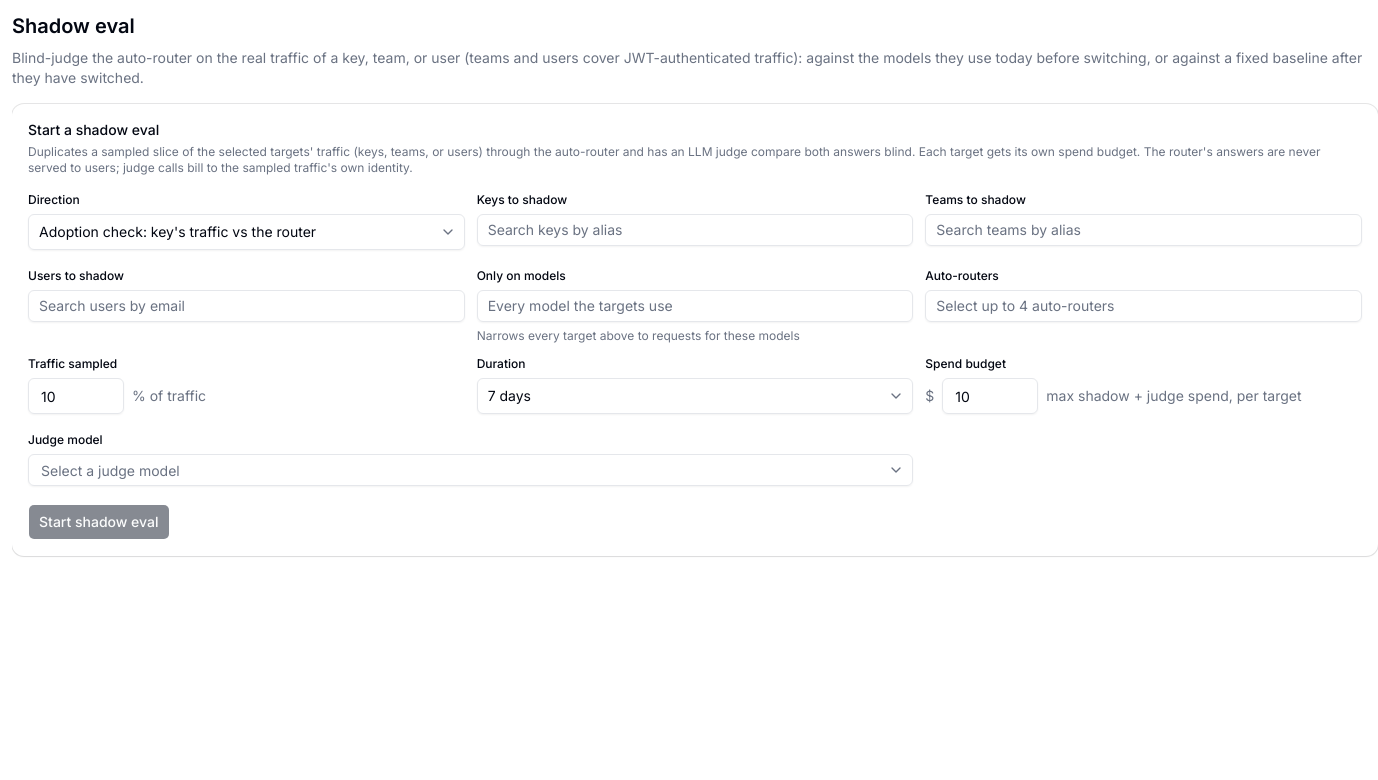
Test: ShadowEvalSection › shows a key picker load failure instead of posing as no matching keys
The width and height of the screenshot is (1378, 780).
Click the dropdown with placeholder "Search keys by alias" at (695, 230), box [488, 220, 902, 240]
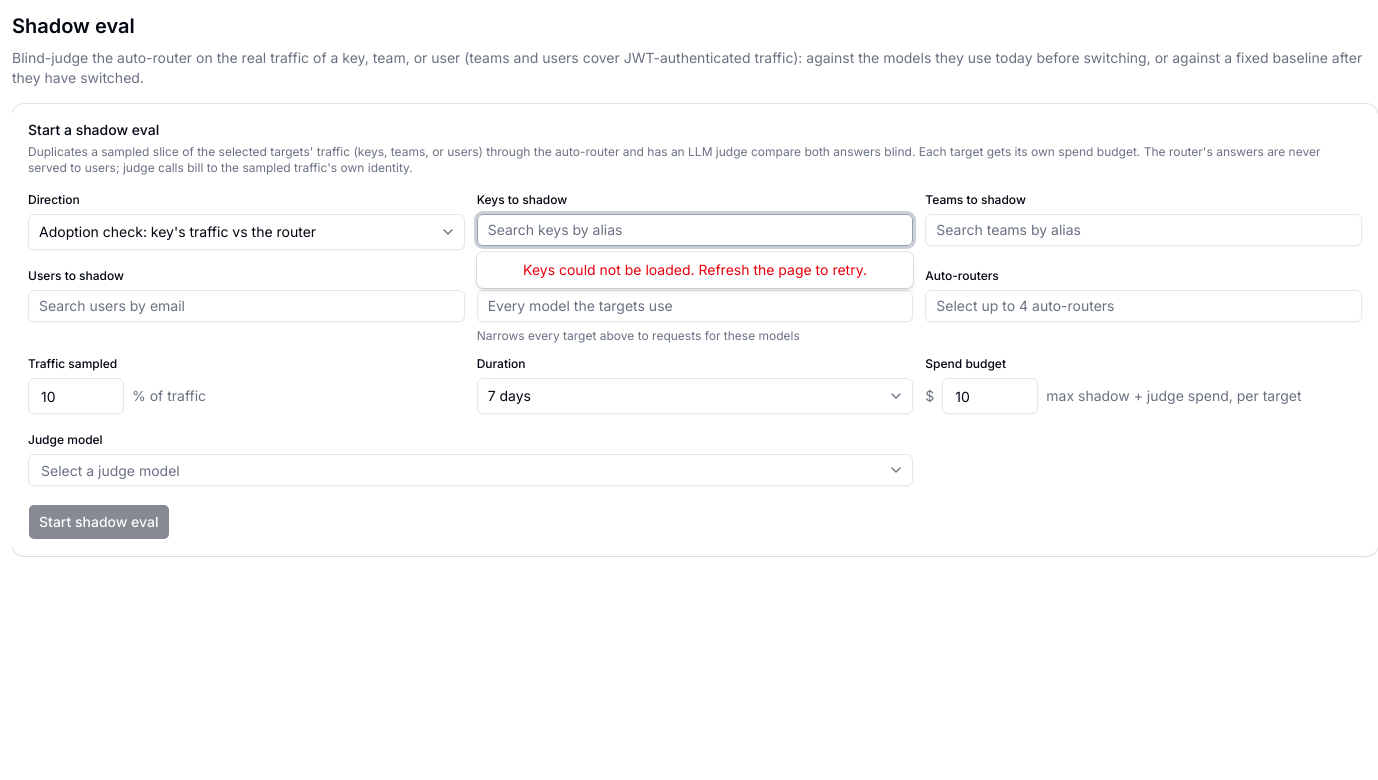
Expected: the text "Keys could not be loaded. Refresh the page to retry." is shown, [523, 261, 867, 278]
